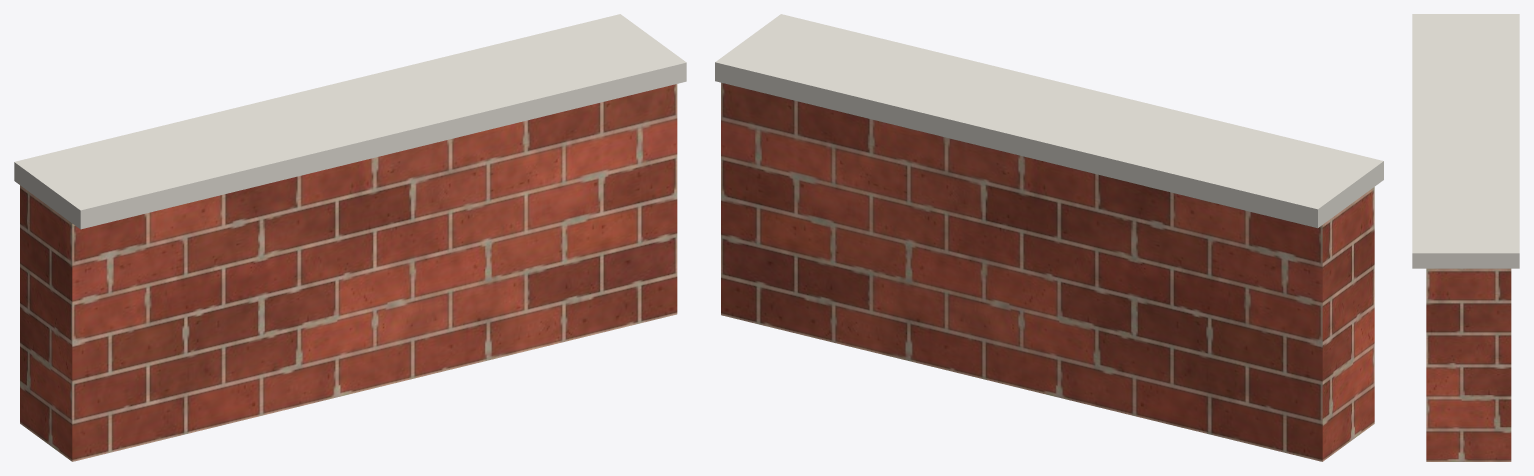
File: parapet_side_a.glb
The picture shows the model from 3 angles, left to right: view 1: azimuth 30°, elevation 25°; view 2: azimuth 150°, elevation 25°; view 3: azimuth 270°, elevation 25°; orthographic projection. The views are drawn at different scales.
Visible parts, largest first — view 1: parapet_side_a_brick, parapet_side_a_lime; view 2: parapet_side_a_brick, parapet_side_a_lime; view 3: parapet_side_a_lime, parapet_side_a_brick.
Part boxes in pixels (x1=…): parapet_side_a_brick: x1=20, y1=84, x2=677, y2=461; parapet_side_a_lime: x1=14, y1=14, x2=686, y2=229; parapet_side_a_brick: x1=721, y1=82, x2=1374, y2=461; parapet_side_a_lime: x1=715, y1=14, x2=1383, y2=228; parapet_side_a_lime: x1=1412, y1=14, x2=1519, y2=268; parapet_side_a_brick: x1=1426, y1=268, x2=1511, y2=461.
Size of the model in its own units: 2 by 0.815 by 0.38.
2 materials, 1 textured.
